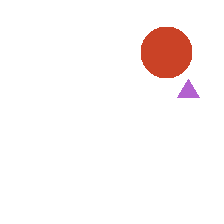circle: (141, 27, 191, 77)
triangle: (177, 79, 199, 97)
